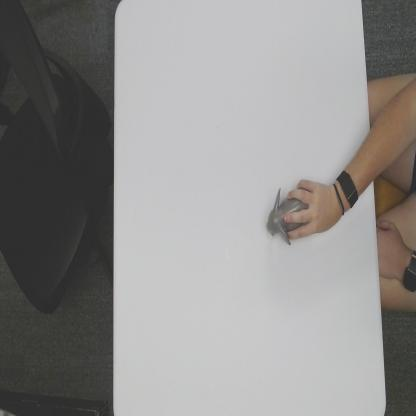Arm: (357, 130, 374, 197)
Elephant: (266, 186, 311, 247)
Hand: (282, 178, 340, 239)
